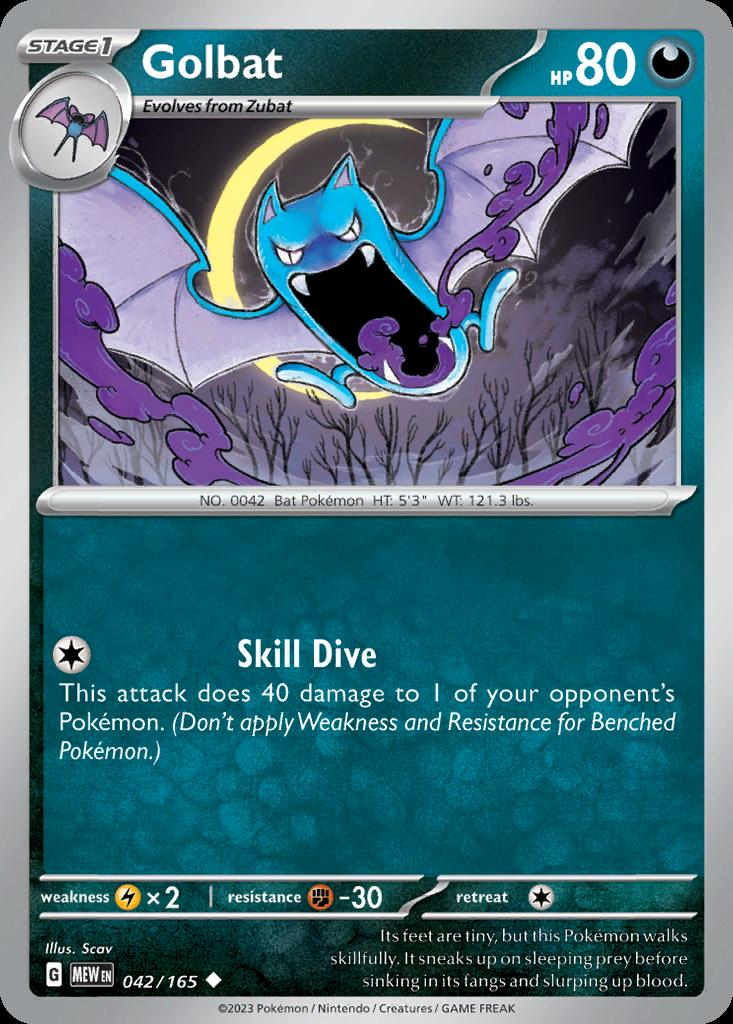card: (7, 8, 732, 1024)
hp: (524, 34, 696, 96)
name: (130, 31, 299, 87)
set num: (111, 956, 230, 990)
set symbol: (36, 950, 114, 993)
